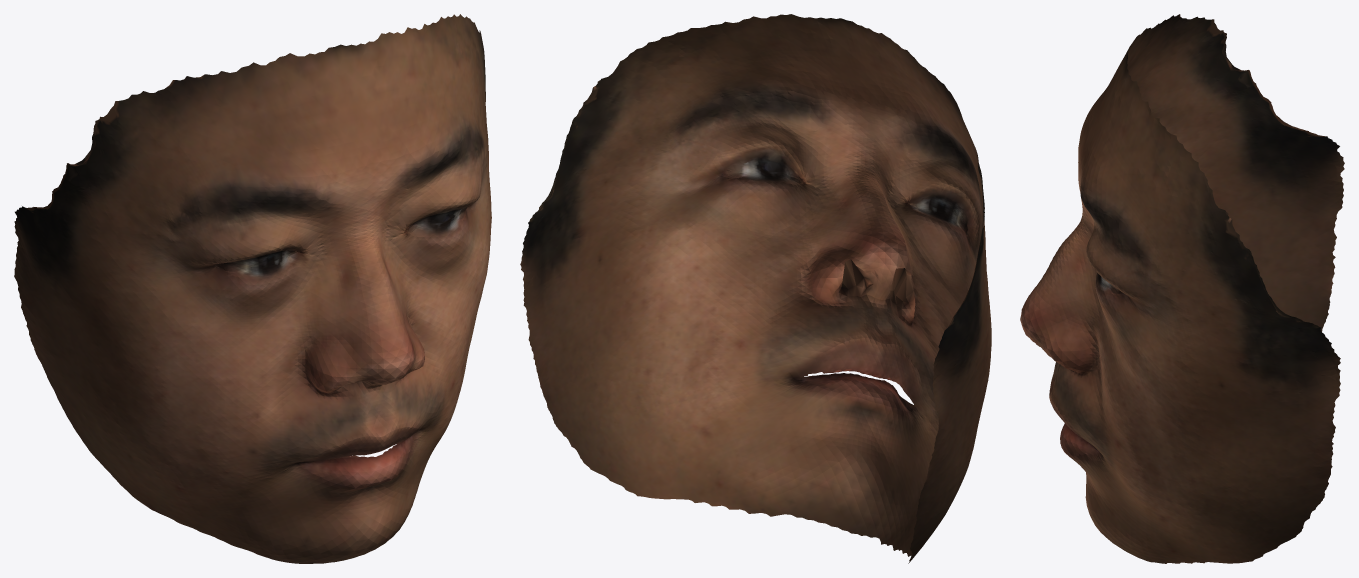
The model's file is topology_face.obj.
3 views of the same model, side by side, from view 1: azimuth 30°, elevation 25°; view 2: azimuth 150°, elevation 25°; view 3: azimuth 270°, elevation 25° (orthographic). The views are drawn at different scales.
Size of the model in its own units: 1.48 by 1.71 by 1.04.
